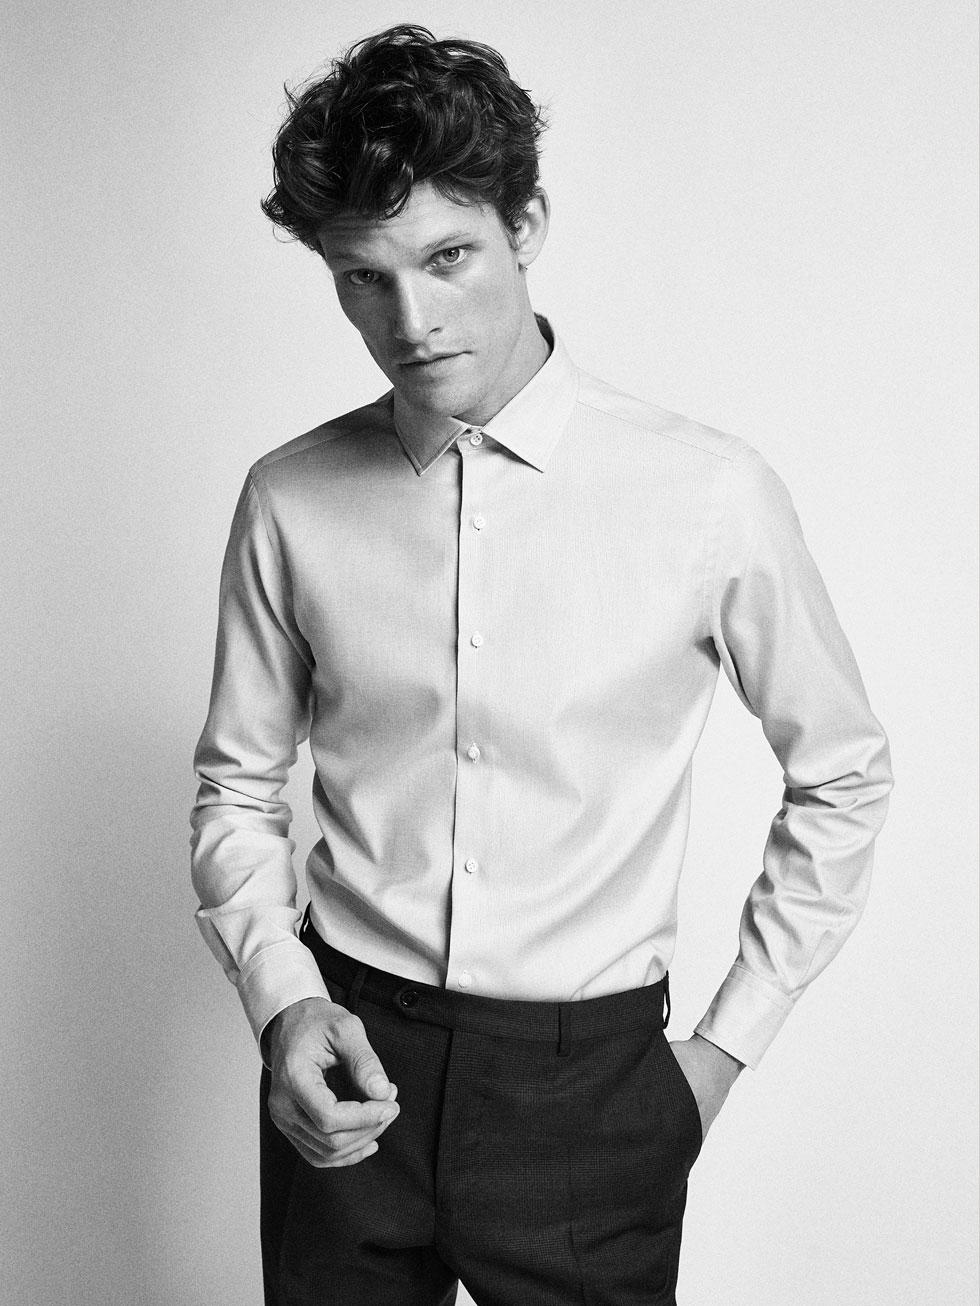teeshirt: (177, 301, 899, 1125)
